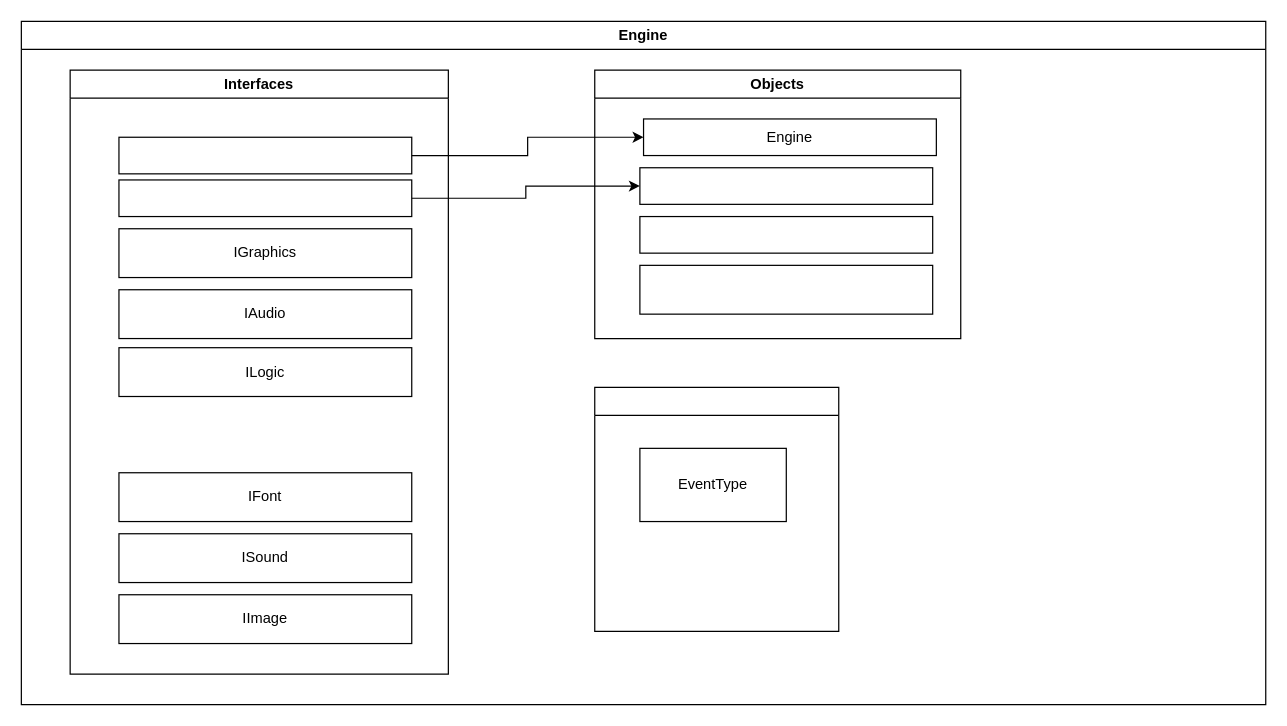
This 1287x726 diagram has some shape labels left out. Here are the shapes that lost their labels. From the top down, the box of each, then its label:
(118, 136, 412, 174): IEngine
(118, 179, 412, 217): IInput
(639, 167, 933, 204): Input
(639, 215, 933, 253): Dimension
(639, 264, 933, 314): Color
(594, 386, 839, 631): Enum
